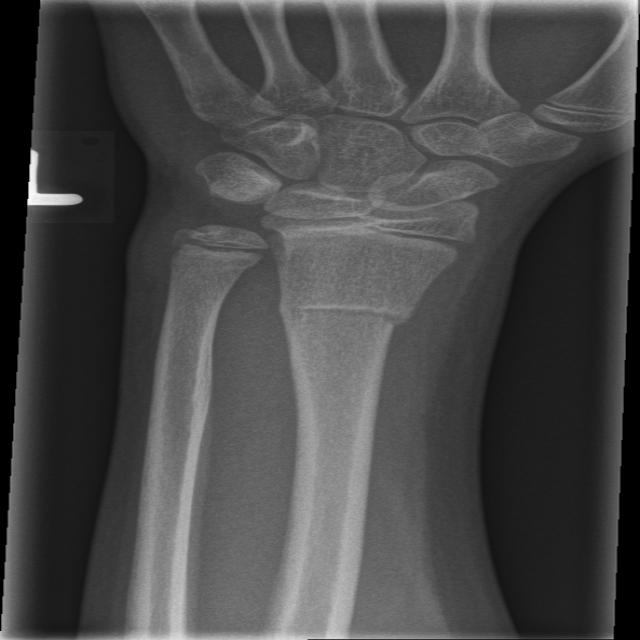radius fracture: (260, 280, 455, 362)
